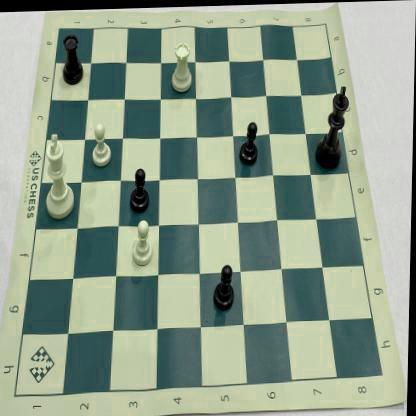black-king: (312, 81, 353, 175)
black-pawn: (208, 258, 242, 318), (234, 113, 266, 171), (126, 160, 154, 216)
black-rook: (57, 27, 88, 90)
white-king: (40, 125, 82, 223)
white-pawn: (128, 214, 159, 270), (88, 117, 116, 168)
white-rook: (166, 37, 198, 101)
